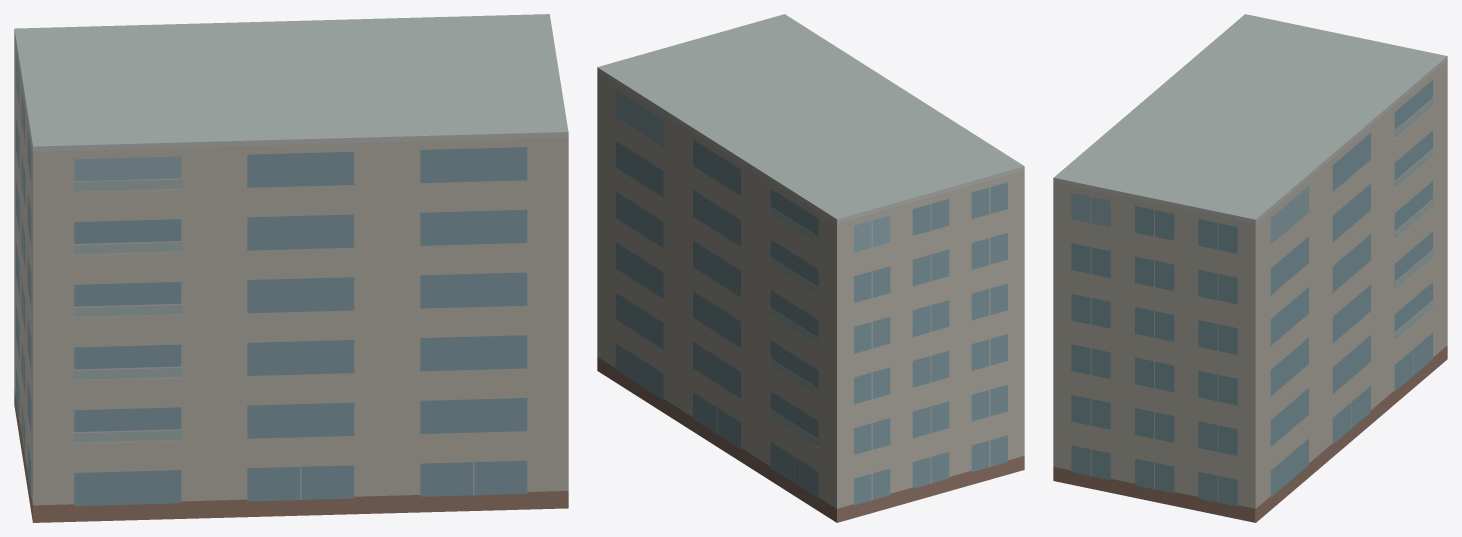
File: survey-upis-32850216.glb
3 renders of one model, left to right at view 1: azimuth 30°, elevation 25°; view 2: azimuth 150°, elevation 25°; view 3: azimuth 270°, elevation 25°, orthographic. The views are drawn at different scales.
Parts seen in each view (by area): view 1: survey-upis-32850216.tmp; view 2: survey-upis-32850216.tmp; view 3: survey-upis-32850216.tmp.
Boxes of the visible parts, x1,y1,x2,y2 form: survey-upis-32850216.tmp: (14,14,568,522); survey-upis-32850216.tmp: (597,14,1024,522); survey-upis-32850216.tmp: (1053,14,1447,522).
Bounding box in the file's own units: 25.62 × 17.6 × 20.74.
